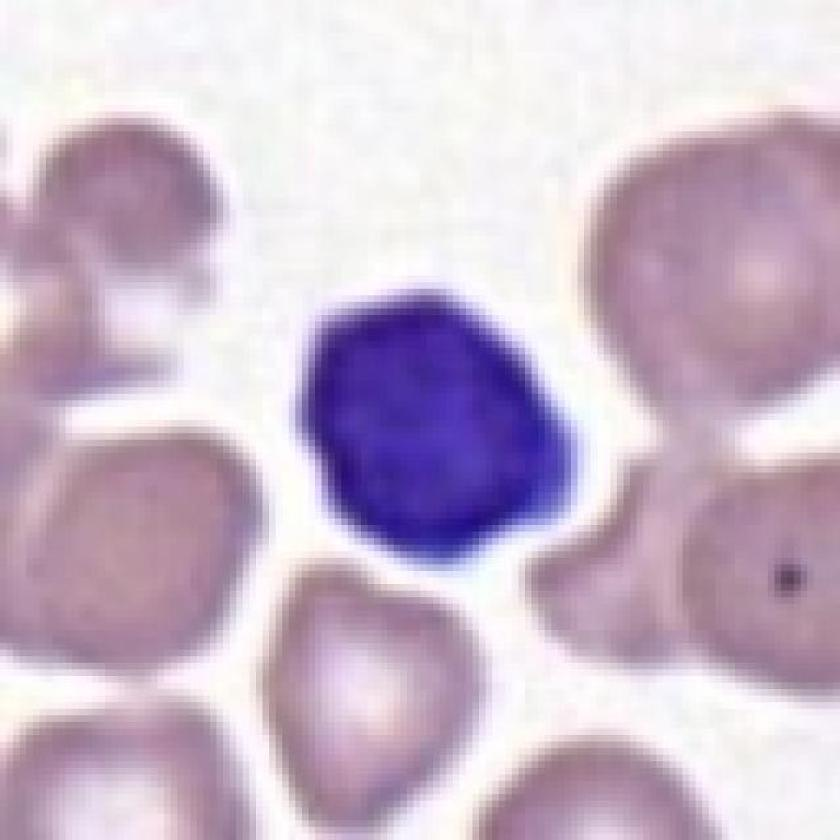lymphocyte: (295, 282, 585, 568)
